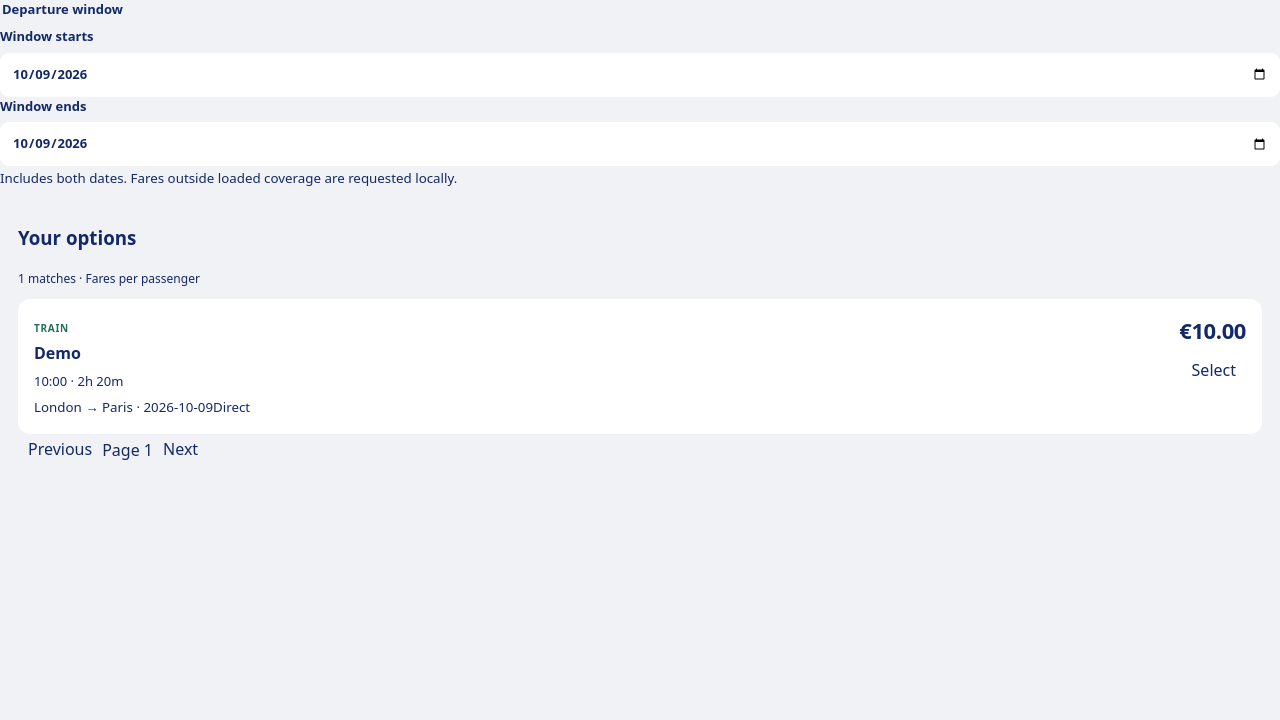
Test case: extends DateWindow beyond cached coverage through local loading of a new fixed scope
The image size is (1280, 720).
Check: the button with aria-label "Select Train" is shown, box [1182,355,1246,387]
Type "2026-10-11" into the date field labelled "Window ends" at (640, 144), box [0,122,1279,166]
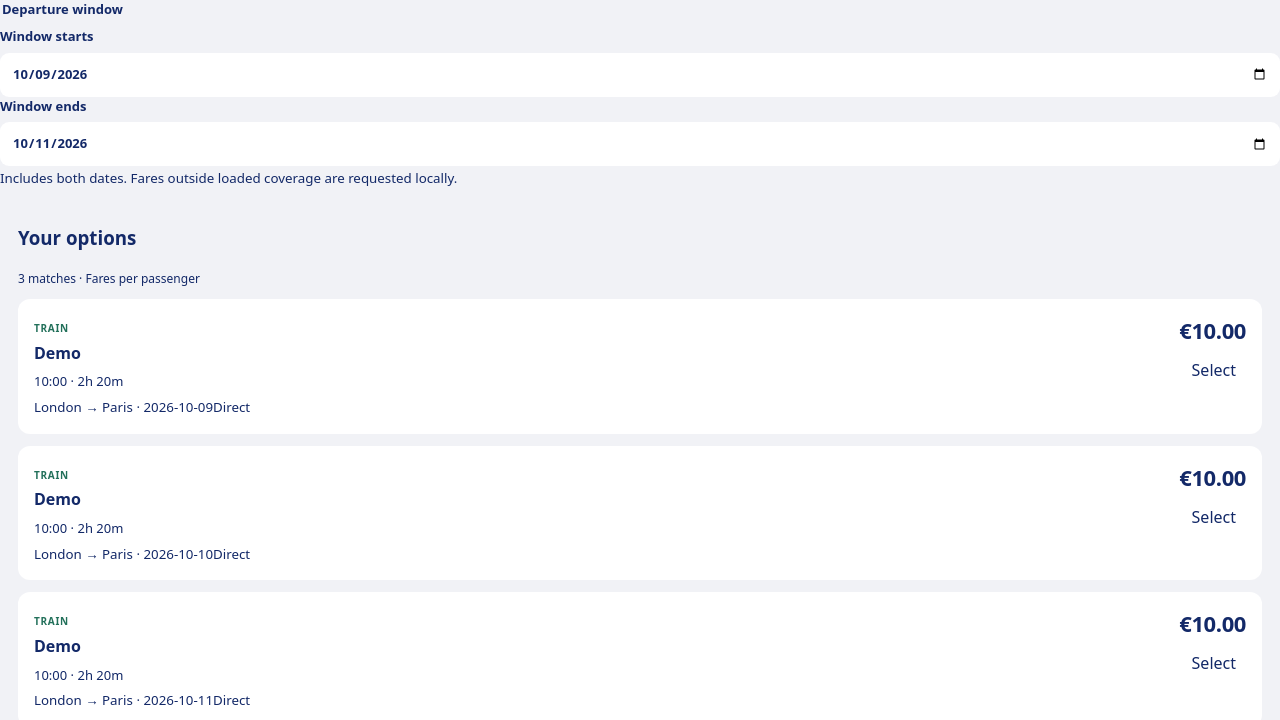
Check: the number of buttons named "Select Train" is 3, box [1182,355,1246,387]; [1182,501,1246,533]; [1182,648,1246,680]
